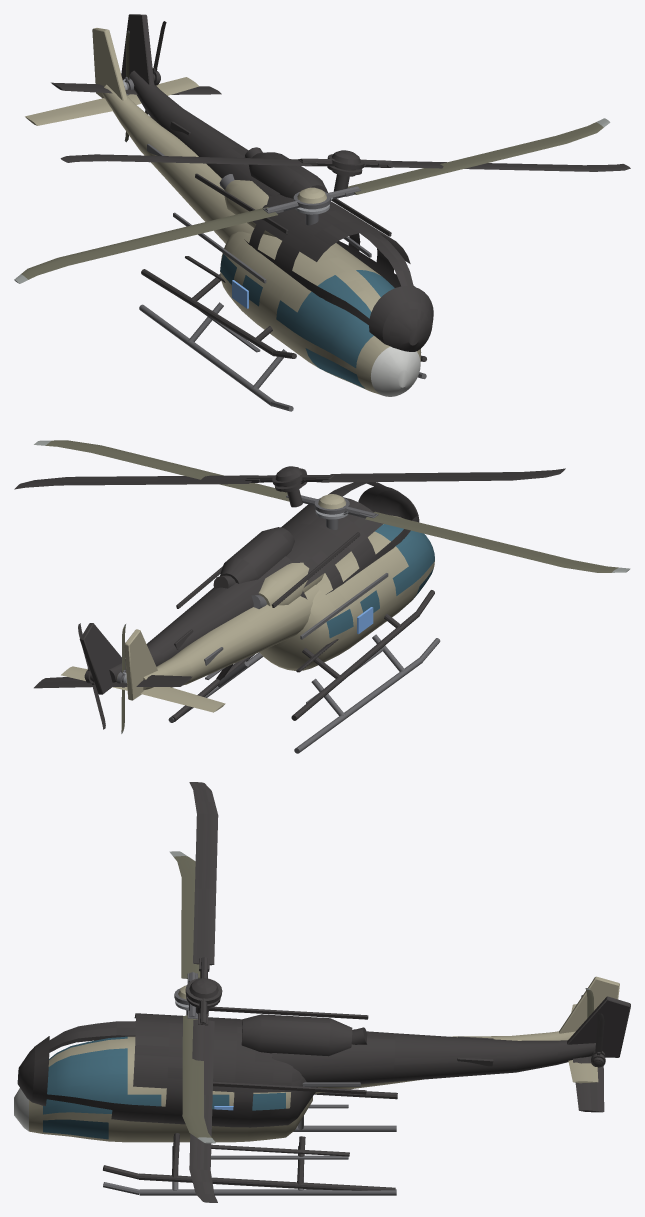
Rendered from helicopter__shabaviz_2_75.glb.
3 views of the same model, one above another, from view 1: azimuth 30°, elevation 25°; view 2: azimuth 150°, elevation 25°; view 3: azimuth 270°, elevation 25° (orthographic). The views are drawn at different scales.
Parts seen in each view (by area): view 1: Fuselage_Mesh, Wreck, Rotor_Main_Mesh, Landing_Gear_Mesh, Engines_Mesh; view 2: Wreck, Fuselage_Mesh, Rotor_Main_Mesh, Landing_Gear_Mesh, Engines_Mesh, Rotor_Tail_Mesh; view 3: Wreck, Fuselage_Mesh, Rotor_Main_Mesh, Landing_Gear_Mesh.
Boxes of the visible parts, box(x1,y1,x2,y2) form: Fuselage_Mesh: box(25, 28, 421, 396); Wreck: box(51, 14, 630, 361); Rotor_Main_Mesh: box(14, 118, 610, 283); Landing_Gear_Mesh: box(139, 302, 426, 411); Engines_Mesh: box(219, 174, 275, 236); Wreck: box(14, 466, 565, 729); Fuselage_Mesh: box(61, 515, 434, 712); Rotor_Main_Mesh: box(34, 440, 630, 572); Landing_Gear_Mesh: box(168, 634, 440, 753); Engines_Mesh: box(251, 562, 324, 608); Rotor_Tail_Mesh: box(116, 624, 126, 733); Wreck: box(17, 782, 630, 1202); Fuselage_Mesh: box(14, 976, 619, 1159); Rotor_Main_Mesh: box(169, 851, 215, 1143); Landing_Gear_Mesh: box(103, 1116, 396, 1195).
Size of what is drawn, in the model's own units: 15.12 by 6.18 by 13.1.
